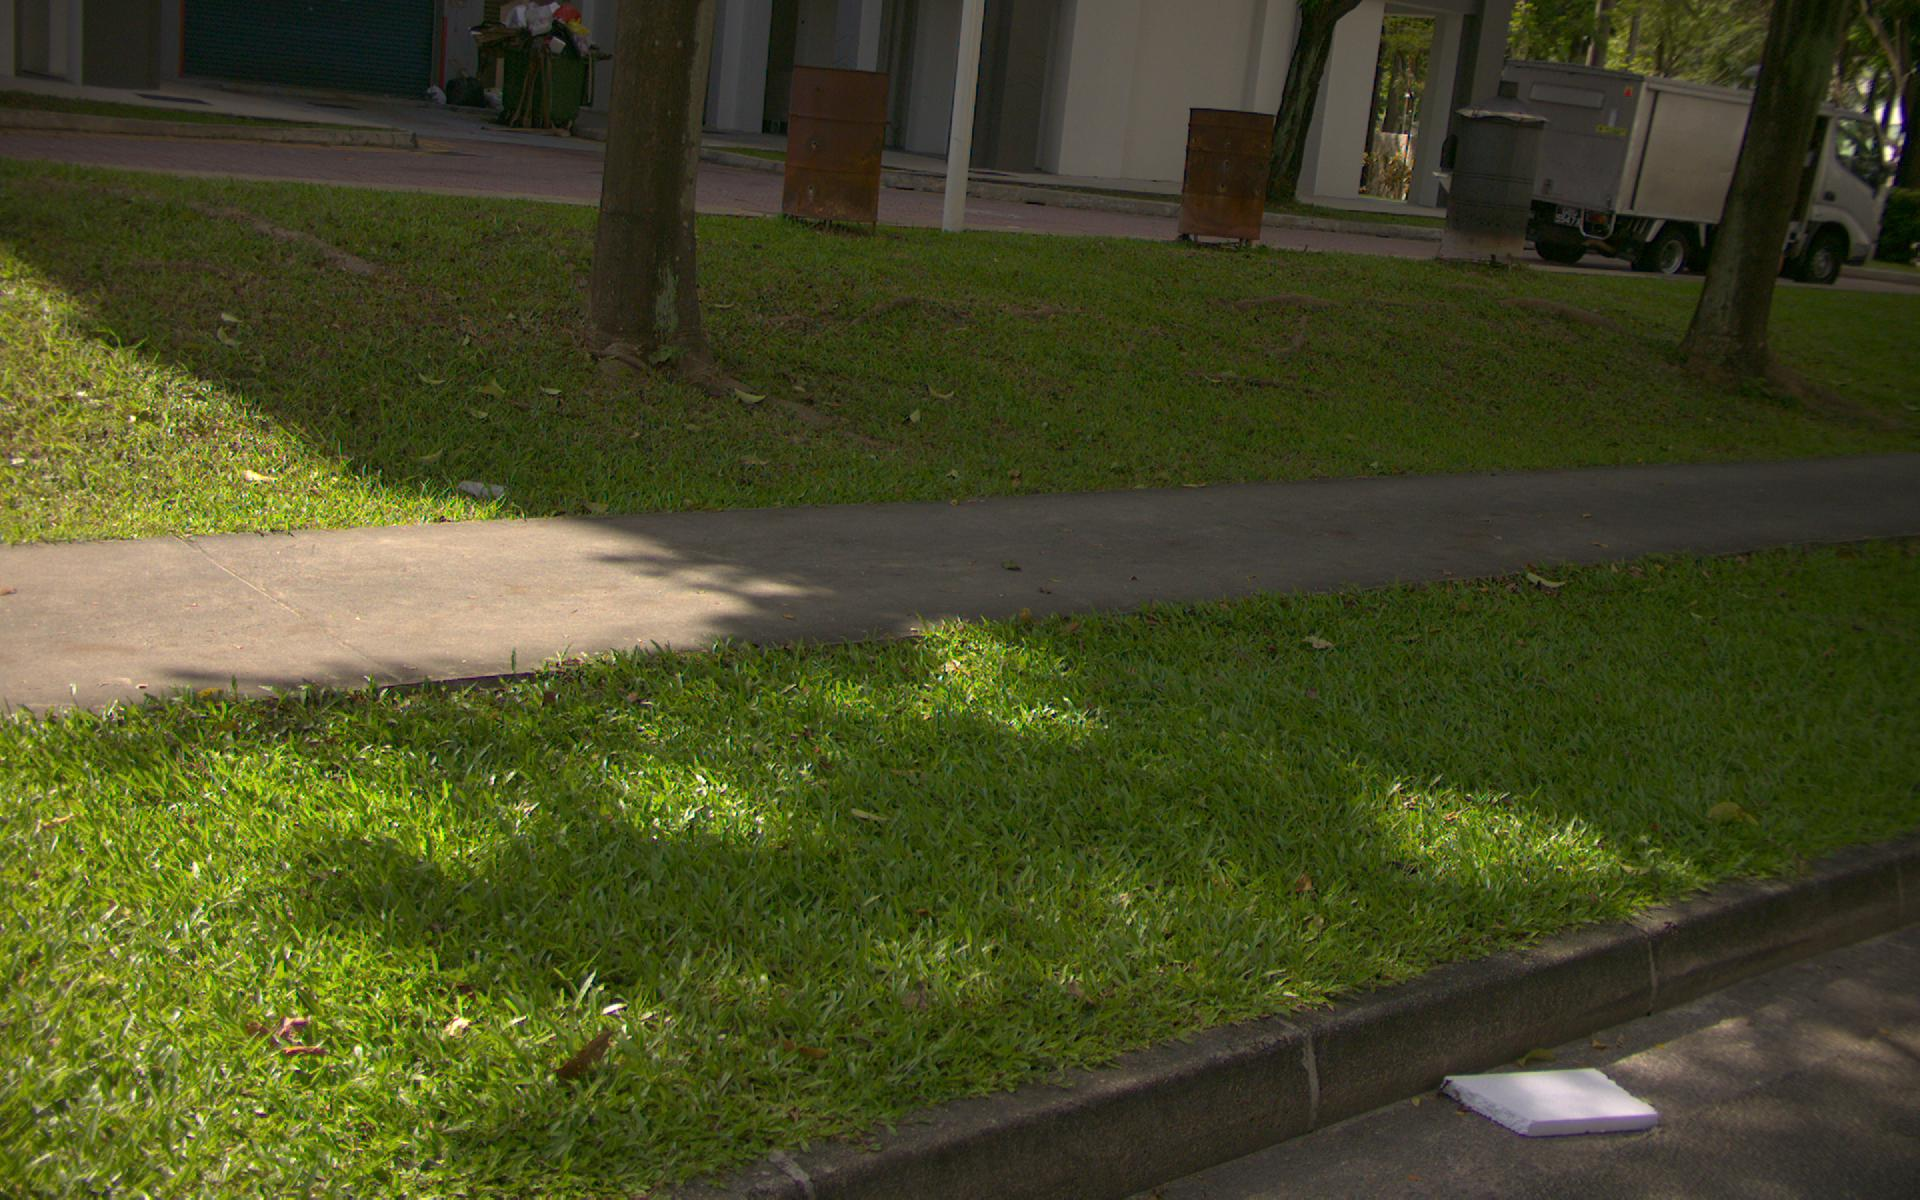road_curb_low: (1151, 918, 1913, 1185)
road_turf_low: (30, 542, 1908, 1188)
